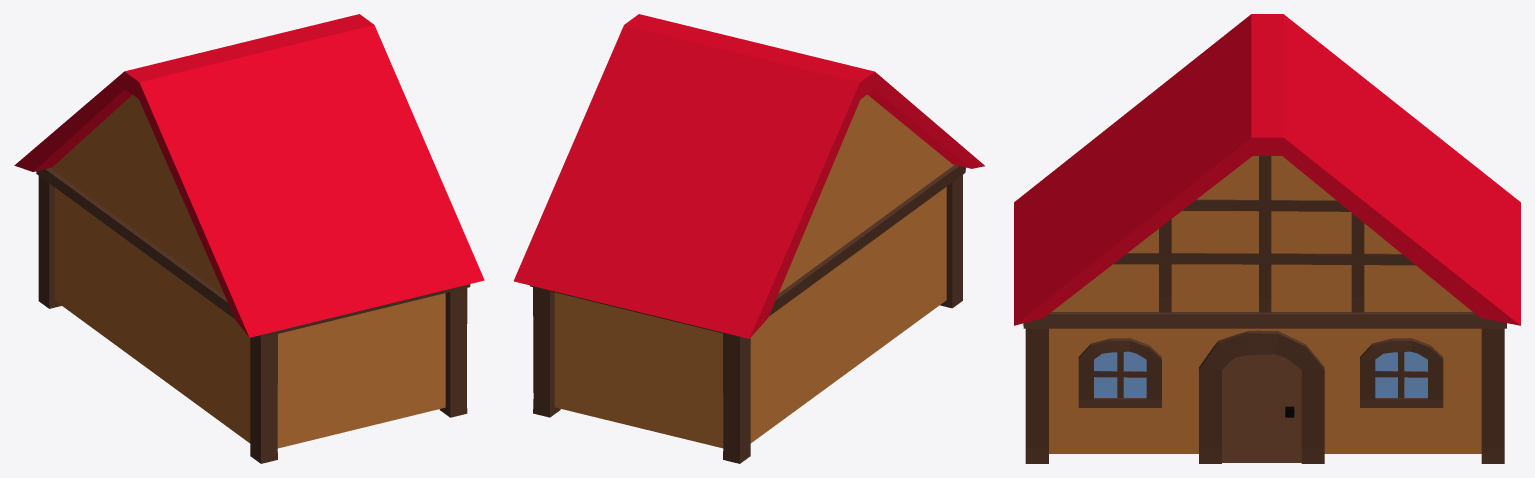
File: House.fbx
The picture shows the model from 3 angles, left to right: view 1: azimuth 30°, elevation 25°; view 2: azimuth 150°, elevation 25°; view 3: azimuth 270°, elevation 25°; orthographic projection. The views are drawn at different scales.
Parts seen in each view (by area): view 1: House; view 2: House; view 3: House.
Boxes of the visible parts, box(x1,y1,x2,y2) form: House: box(14, 14, 484, 463); House: box(514, 14, 984, 463); House: box(1014, 14, 1520, 463).
Bounding box in the file's own units: 508 × 639 × 880.
